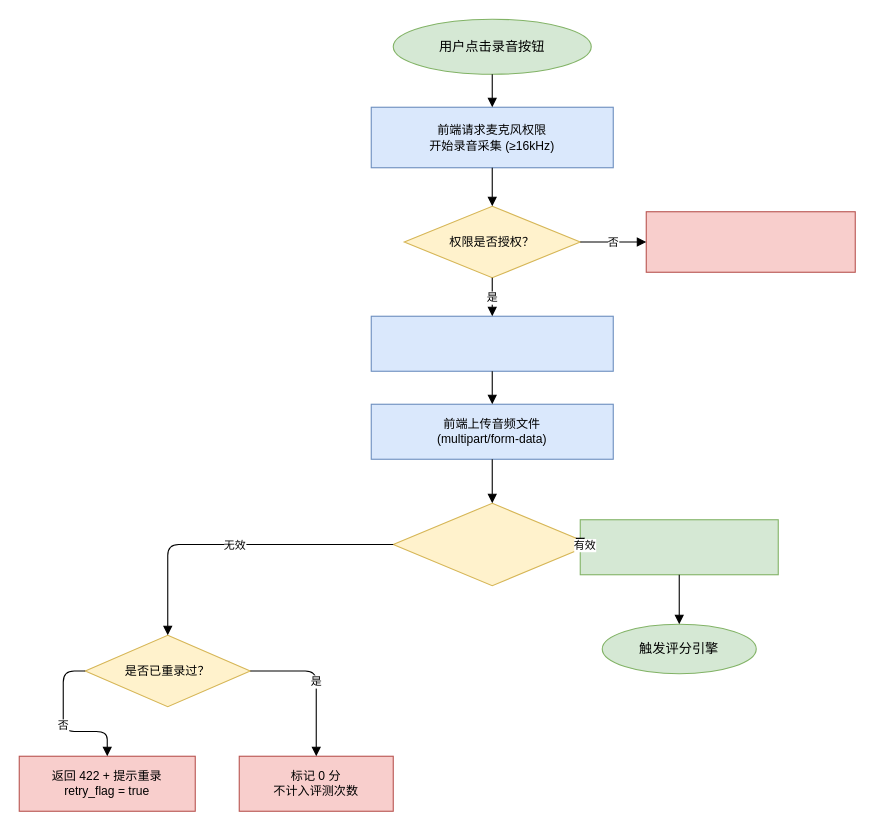
Image size: 875x831. Some labels were removed from this diagram. Here are the shapes that lost their labels. From the top down, the box of each, then its label:
(645, 211, 855, 272): 提示「请在浏览器设置 中允许麦克风权限」
(370, 315, 613, 371): 用户跟读录音 （点击停止/自动截断）
(392, 502, 591, 586): 音频有效性校验 (静音/时长/大小)？
(579, 519, 778, 575): 存储音频文件 返回 audio_id
